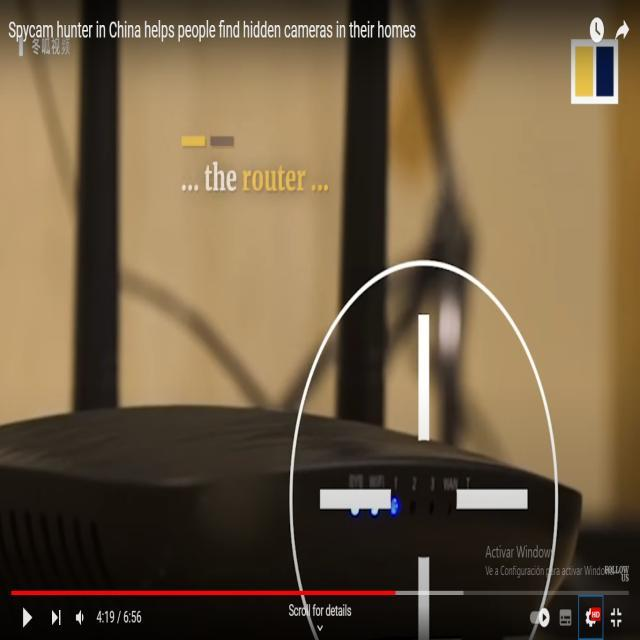hidden camera: (404, 490, 418, 520)
